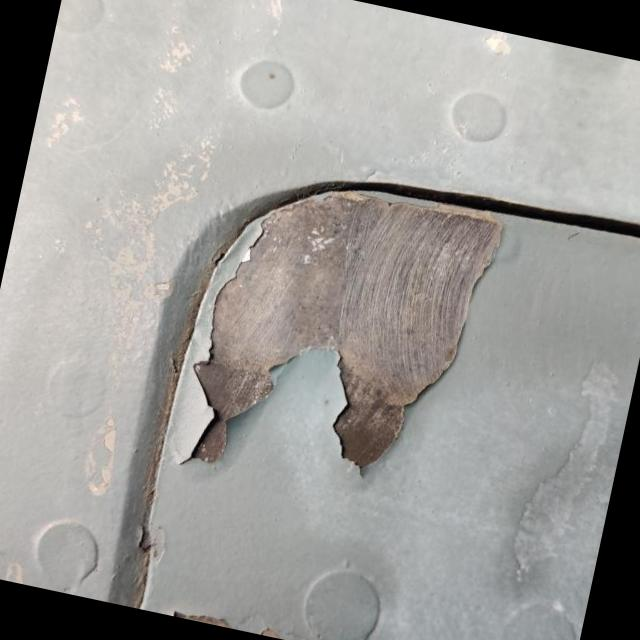Paint-off: (165, 185, 503, 472)
